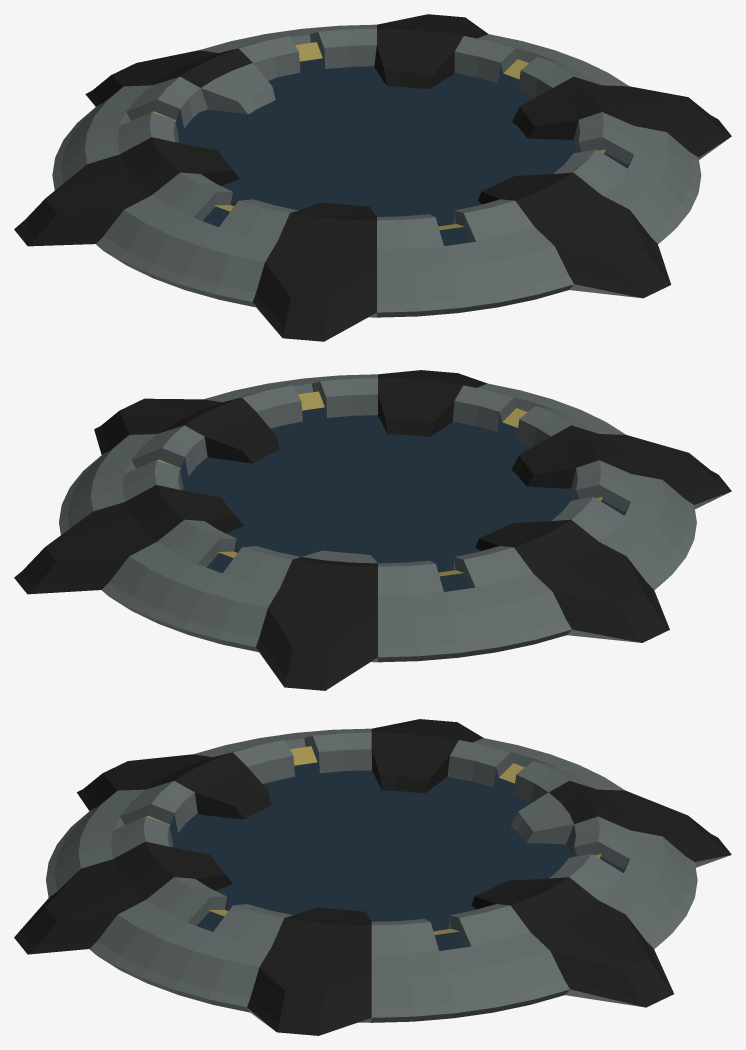
Rendered from teleporterBase.fbx.
3 renders of one model, top to bottom at view 1: azimuth 30°, elevation 25°; view 2: azimuth 150°, elevation 25°; view 3: azimuth 270°, elevation 25°, orthographic. The views are drawn at different scales.
Parts seen in each view (by area): view 1: Torus; view 2: Torus; view 3: Torus.
Boxes of the visible parts, box(x1,y1,x2,y2) form: Torus: box(14, 14, 731, 341); Torus: box(14, 370, 731, 690); Torus: box(14, 719, 731, 1035).
Bounding box in the file's own units: 2.84 × 0.3161 × 2.75.
